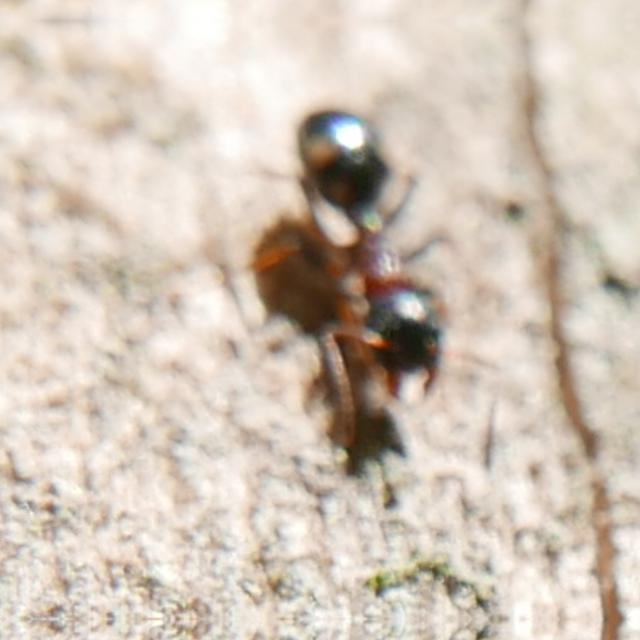Dolichoderus: (216, 57, 530, 433)
